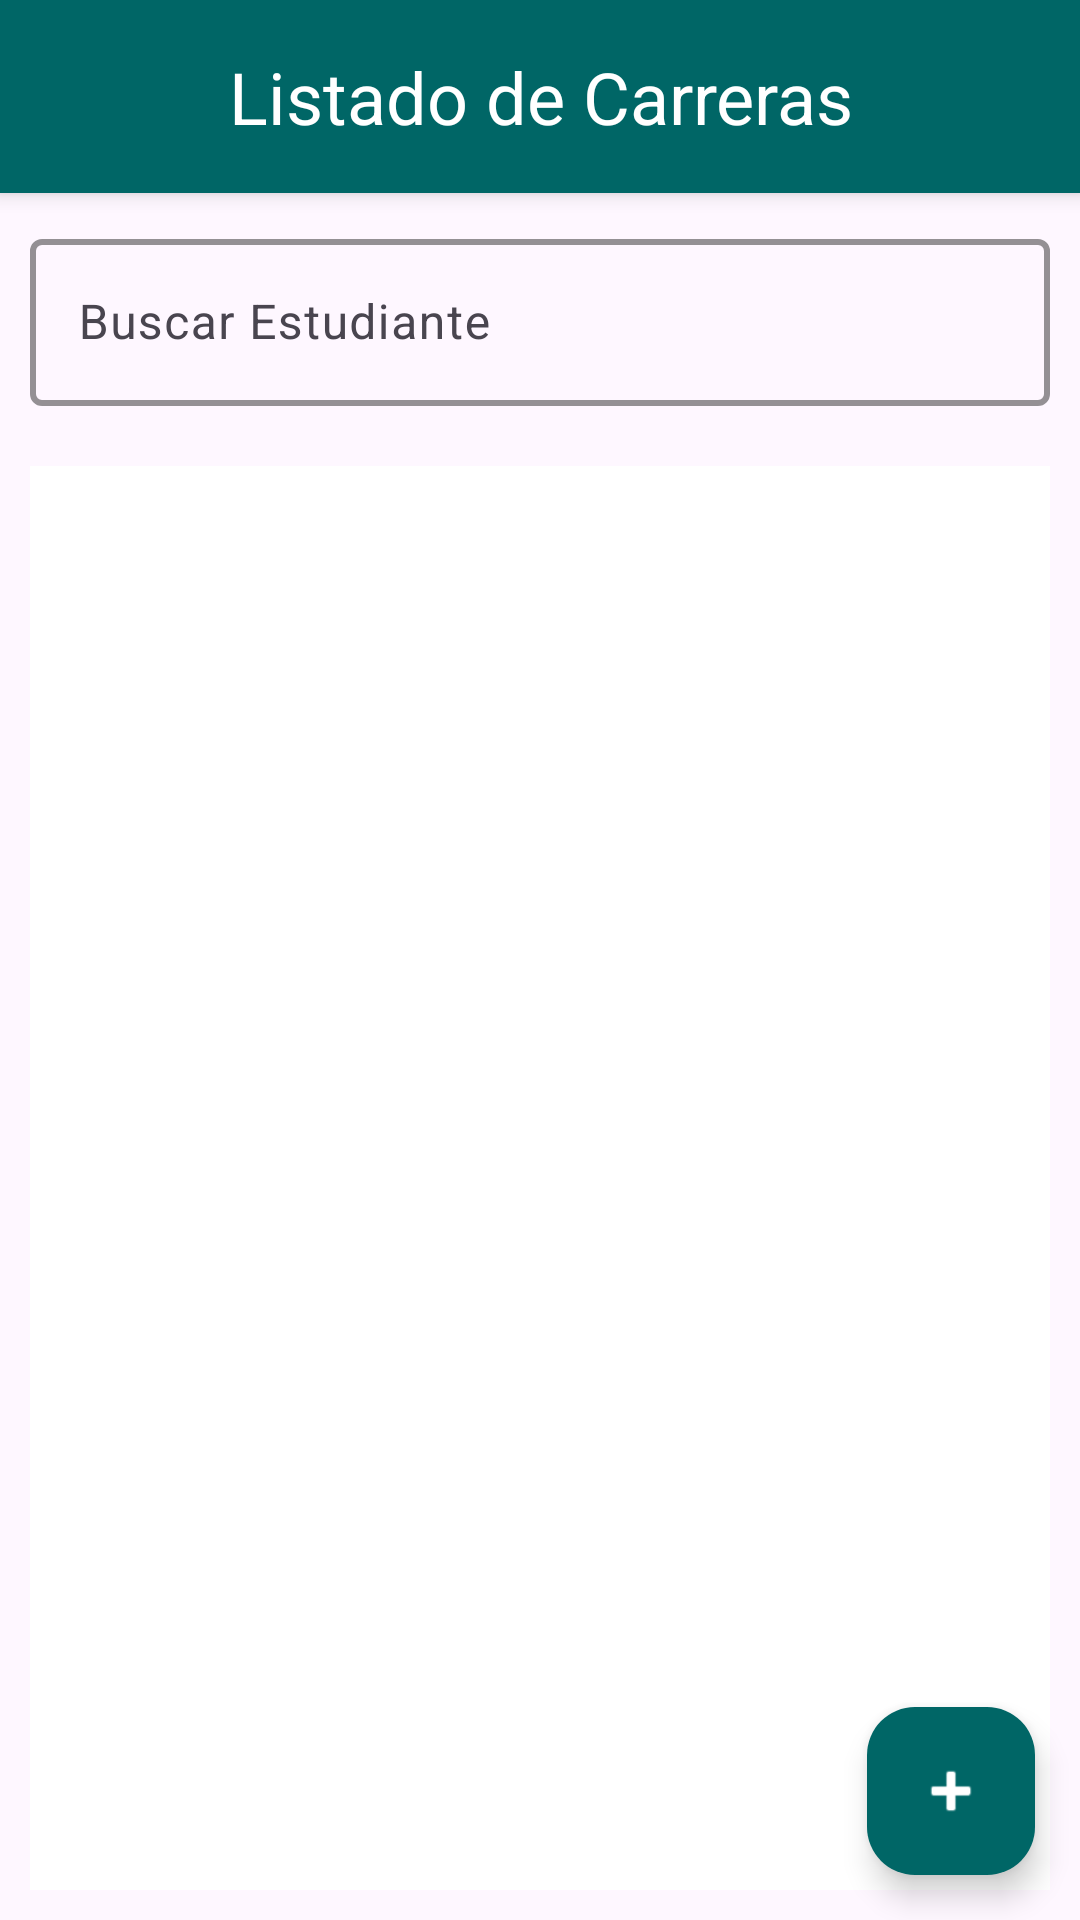

Screen size 1080×1920. Icon name, then its box in pixels as (x1, y1, x2, y2):
Añadir: (867, 1707, 1035, 1875)
